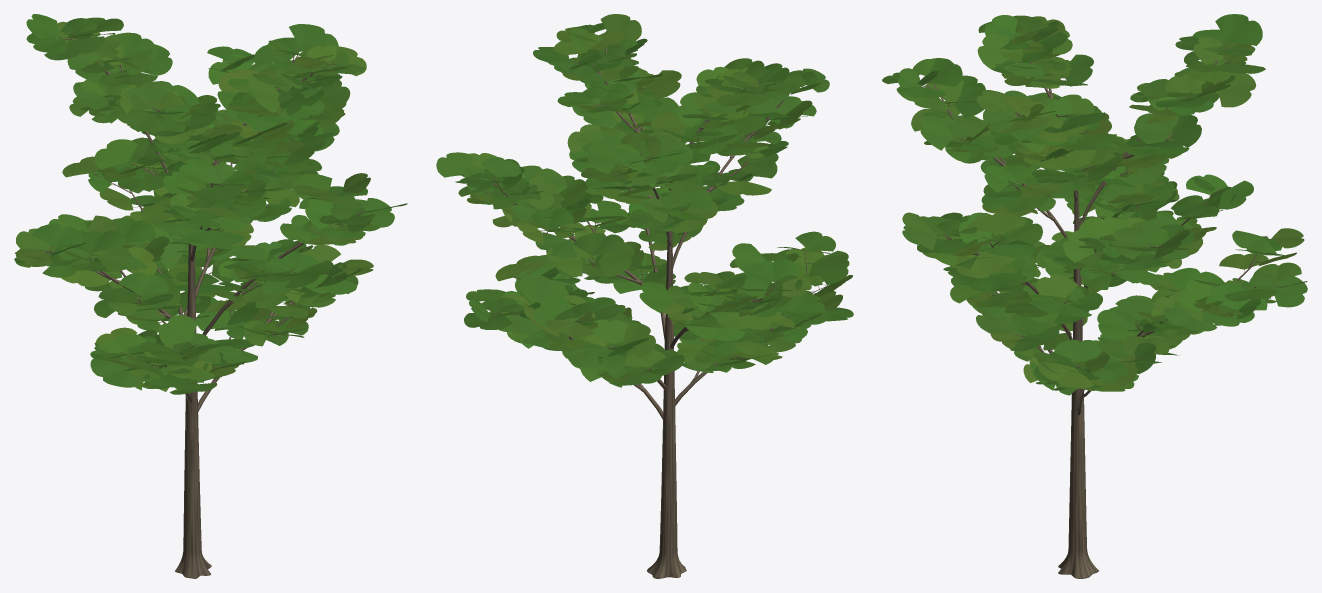
Rendered from ginkgo.glb.
3 views of the same model, side by side, from view 1: azimuth 30°, elevation 25°; view 2: azimuth 150°, elevation 25°; view 3: azimuth 270°, elevation 25° (orthographic). The views are drawn at different scales.
Parts seen in each view (by area): view 1: Foliage, Bark; view 2: Foliage, Bark; view 3: Foliage, Bark.
Part boxes in pixels (x1,y1,x2,y2): Foliage: [14, 14, 407, 394]; Bark: [46, 31, 366, 578]; Foliage: [436, 14, 853, 387]; Bark: [483, 48, 827, 578]; Foliage: [882, 14, 1307, 395]; Bark: [915, 36, 1283, 578].
Size of the model in its own units: 1.71 by 2.4 by 1.79.
Materials: 2 (1 with a texture image).
